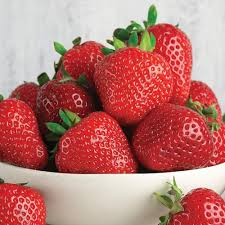Fresa: (91, 43, 176, 127), (130, 99, 214, 175), (52, 109, 143, 177), (131, 21, 196, 105), (1, 93, 51, 174), (35, 75, 98, 135), (56, 38, 115, 86), (159, 185, 225, 225)
